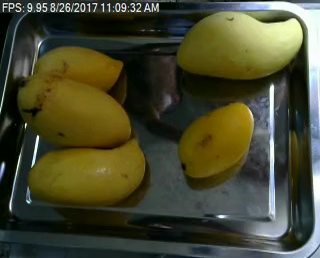Mango: (179, 10, 303, 82), (16, 77, 137, 149), (23, 137, 148, 205), (177, 102, 259, 177), (32, 46, 124, 92)
